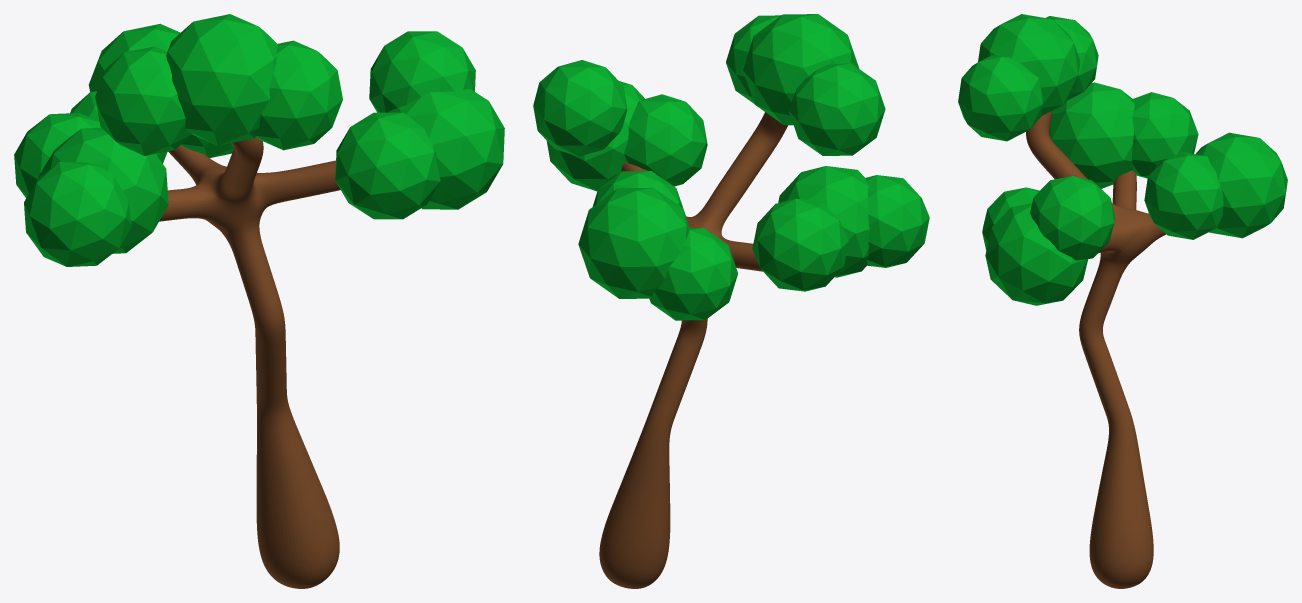
Rendered from arbre simple.fbx.
3 views of the same model, side by side, from view 1: azimuth 30°, elevation 25°; view 2: azimuth 150°, elevation 25°; view 3: azimuth 270°, elevation 25° (orthographic). The views are drawn at different scales.
Parts seen in each view (by area): view 1: Vert.002, Feuilles.009, Icosphere.024, Icosphere.022, Feuilles.011, Icosphere.019, Icosphere.020, Icosphere.023, Feuilles.010, Icosphere.021, Feuilles.008, Icosphere.018; view 2: Vert.002, Feuilles.008, Feuilles.009, Icosphere.023, Icosphere.021, Icosphere.019, Icosphere.024, Icosphere.017, Icosphere.022, Feuilles.010, Feuilles.011, Icosphere.020 (+1 smaller); view 3: Vert.002, Feuilles.010, Feuilles.011, Feuilles.008, Icosphere.020, Icosphere.018, Feuilles.009, Icosphere.023, Icosphere.021, Icosphere.019, Icosphere.024.
Boxes of the visible parts, x1,y1,x2,y2 form: Vert.002: (159,137,340,588); Feuilles.009: (166,14,278,145); Icosphere.024: (335,112,440,219); Icosphere.022: (24,161,131,266); Feuilles.011: (388,88,504,209); Icosphere.019: (95,46,192,155); Icosphere.020: (253,40,342,150); Icosphere.023: (369,31,475,112); Feuilles.010: (38,127,168,253); Icosphere.021: (14,113,100,197); Feuilles.008: (88,23,180,92); Icosphere.018: (180,134,234,157); Vert.002: (599,112,787,588); Feuilles.008: (578,187,689,298); Feuilles.009: (743,14,859,125); Icosphere.023: (533,60,627,156); Icosphere.021: (752,198,848,291); Icosphere.019: (788,63,885,155); Icosphere.024: (624,94,707,186); Icosphere.017: (649,228,737,320); Icosphere.022: (865,175,929,267); Feuilles.010: (778,166,869,277); Feuilles.011: (546,81,644,191); Icosphere.020: (726,15,780,103); Vert.002: (1026,111,1166,588); Feuilles.010: (1049,82,1134,188); Feuilles.011: (985,203,1087,305); Feuilles.008: (1195,132,1287,238); Icosphere.020: (958,55,1043,141); Icosphere.018: (1144,152,1223,239); Feuilles.009: (978,14,1080,115); Icosphere.023: (1030,176,1114,260); Icosphere.021: (1132,92,1198,178); Icosphere.019: (1046,16,1098,100); Icosphere.024: (982,187,1039,249).
Size of the model in its own units: 795 by 1095 by 635.
